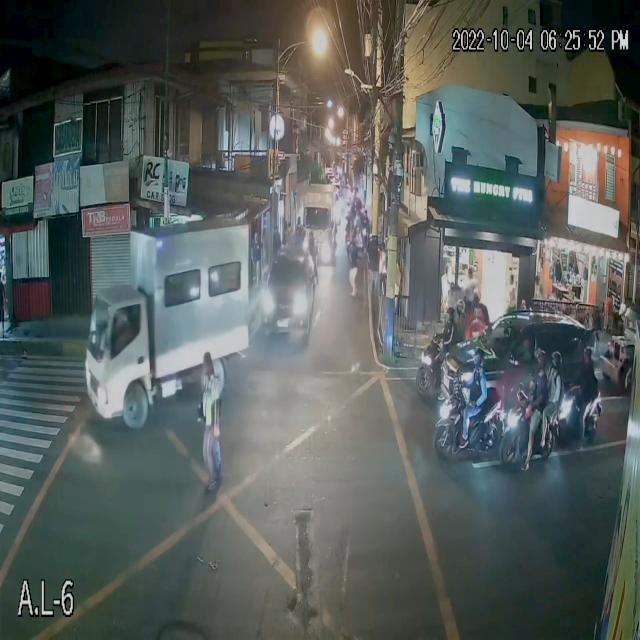Full-Faced: (531, 345, 548, 370), (471, 346, 485, 368), (550, 347, 562, 370), (444, 304, 456, 326), (455, 298, 466, 316)
